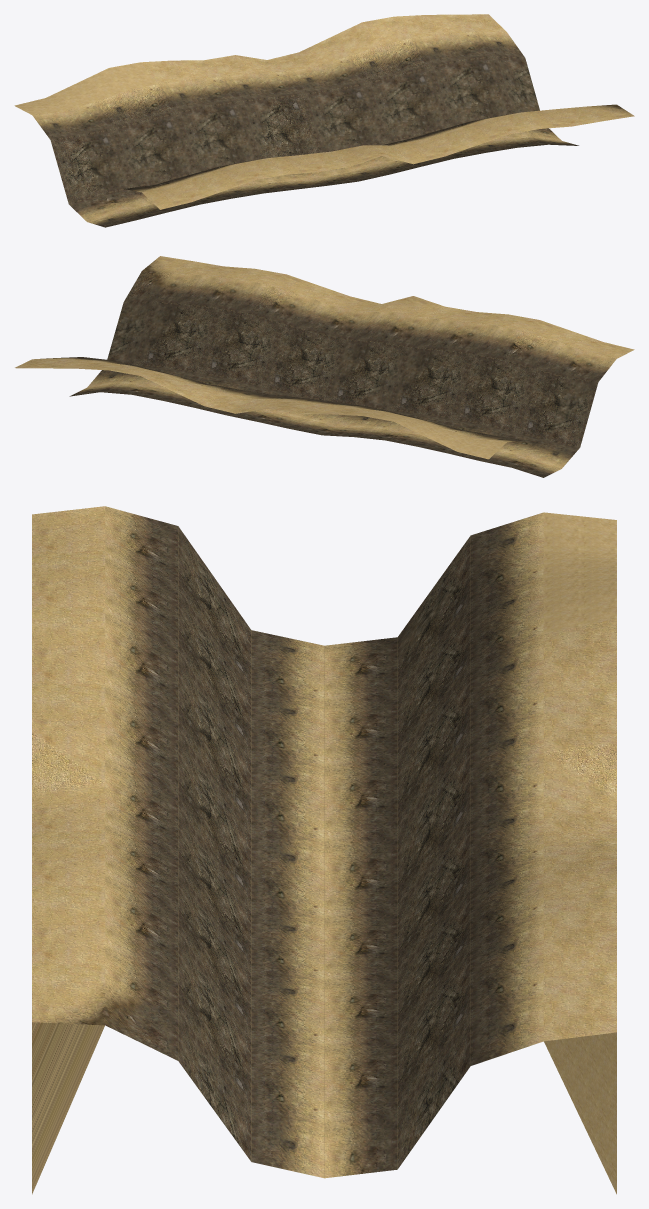
File: Mis04_Zone01A.glb
3 renders of one model, top to bottom at view 1: azimuth 30°, elevation 25°; view 2: azimuth 150°, elevation 25°; view 3: azimuth 270°, elevation 25°, orthographic. The views are drawn at different scales.
Parts seen in each view (by area): view 1: MIS04_ZONE01A016, MIS04_ZONE01A020, MIS04_ZONE01A019, MIS04_ZONE01A017, MIS04_ZONE01A021, MIS04_ZONE01A018, MIS04_ZONE01A022, MIS04_ZONE01A025, MIS04_ZONE01A029, MIS04_ZONE01A026, MIS04_ZONE01A030, MIS04_ZONE01A028 (+19 smaller); view 2: MIS04_ZONE01A008, MIS04_ZONE01A009, MIS04_ZONE01A013, MIS04_ZONE01A011, MIS04_ZONE01A010, MIS04_ZONE01A014, MIS04_ZONE01A012, MIS04_ZONE01A001, MIS04_ZONE01A005, MIS04_ZONE01A004, MIS04_ZONE01A, MIS04_ZONE01A003 (+19 smaller); view 3: MIS04_ZONE01A031, MIS04_ZONE01A007, MIS04_ZONE01A027, MIS04_ZONE01A003, MIS04_ZONE01A030, MIS04_ZONE01A006, MIS04_ZONE01A026, MIS04_ZONE01A002, MIS04_ZONE01A014, MIS04_ZONE01A019, MIS04_ZONE01A011, MIS04_ZONE01A010 (+20 smaller).
Part boxes in pixels (x1,y1,x2,y2): MIS04_ZONE01A016: [50, 129, 149, 221]; MIS04_ZONE01A020: [304, 83, 395, 172]; MIS04_ZONE01A019: [240, 94, 339, 181]; MIS04_ZONE01A017: [114, 113, 195, 203]; MIS04_ZONE01A021: [367, 67, 448, 143]; MIS04_ZONE01A018: [177, 101, 276, 185]; MIS04_ZONE01A022: [430, 56, 529, 139]; MIS04_ZONE01A025: [77, 62, 176, 128]; MIS04_ZONE01A029: [331, 16, 429, 83]; MIS04_ZONE01A026: [141, 60, 239, 112]; MIS04_ZONE01A030: [394, 14, 493, 67]; MIS04_ZONE01A028: [267, 37, 366, 94]; MIS04_ZONE01A008: [499, 369, 598, 468]; MIS04_ZONE01A009: [447, 354, 534, 437]; MIS04_ZONE01A013: [193, 308, 281, 392]; MIS04_ZONE01A011: [309, 339, 408, 427]; MIS04_ZONE01A010: [372, 347, 471, 433]; MIS04_ZONE01A014: [119, 302, 218, 388]; MIS04_ZONE01A012: [258, 323, 344, 419]; MIS04_ZONE01A001: [472, 314, 570, 368]; MIS04_ZONE01A005: [218, 269, 317, 323]; MIS04_ZONE01A004: [282, 285, 381, 339]; MIS04_ZONE01A: [535, 331, 634, 382]; MIS04_ZONE01A003: [345, 296, 444, 347]; MIS04_ZONE01A031: [470, 986, 616, 1194]; MIS04_ZONE01A007: [32, 983, 178, 1194]; MIS04_ZONE01A027: [470, 707, 616, 814]; MIS04_ZONE01A003: [32, 702, 178, 811]; MIS04_ZONE01A030: [470, 898, 616, 1016]; MIS04_ZONE01A006: [32, 902, 178, 1014]; MIS04_ZONE01A026: [470, 618, 616, 735]; MIS04_ZONE01A002: [32, 622, 178, 733]; MIS04_ZONE01A014: [178, 935, 324, 1122]; MIS04_ZONE01A019: [324, 737, 470, 918]; MIS04_ZONE01A011: [178, 734, 324, 918]; MIS04_ZONE01A010: [178, 655, 324, 841].
Size of the model in its own units: 60 by 14.52 by 32.
5 materials, 5 textured.
